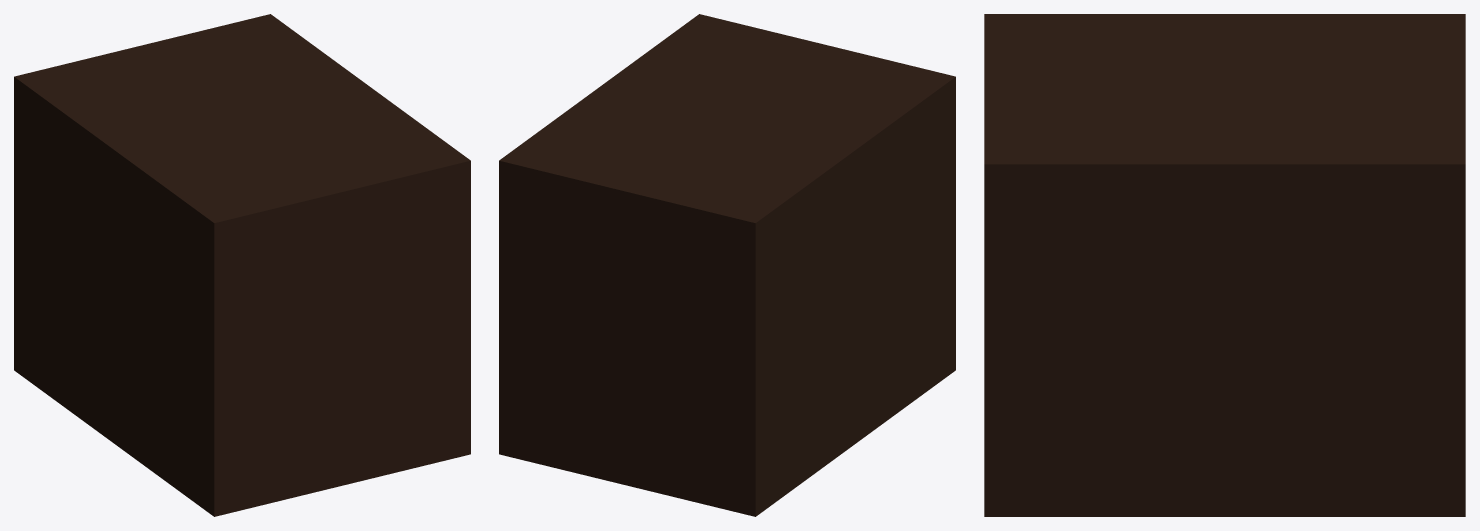
File: plate2.gltf
The picture shows the model from 3 angles, left to right: view 1: azimuth 30°, elevation 25°; view 2: azimuth 150°, elevation 25°; view 3: azimuth 270°, elevation 25°; orthographic projection. The views are drawn at different scales.
Parts seen in each view (by area): view 1: Cube; view 2: Cube; view 3: Cube.
Boxes of the visible parts, x1,y1,x2,y2 form: Cube: [14, 14, 470, 516]; Cube: [499, 14, 955, 516]; Cube: [984, 14, 1465, 516].
Size of the model in its own units: 0.84 by 0.9187 by 1.14.
